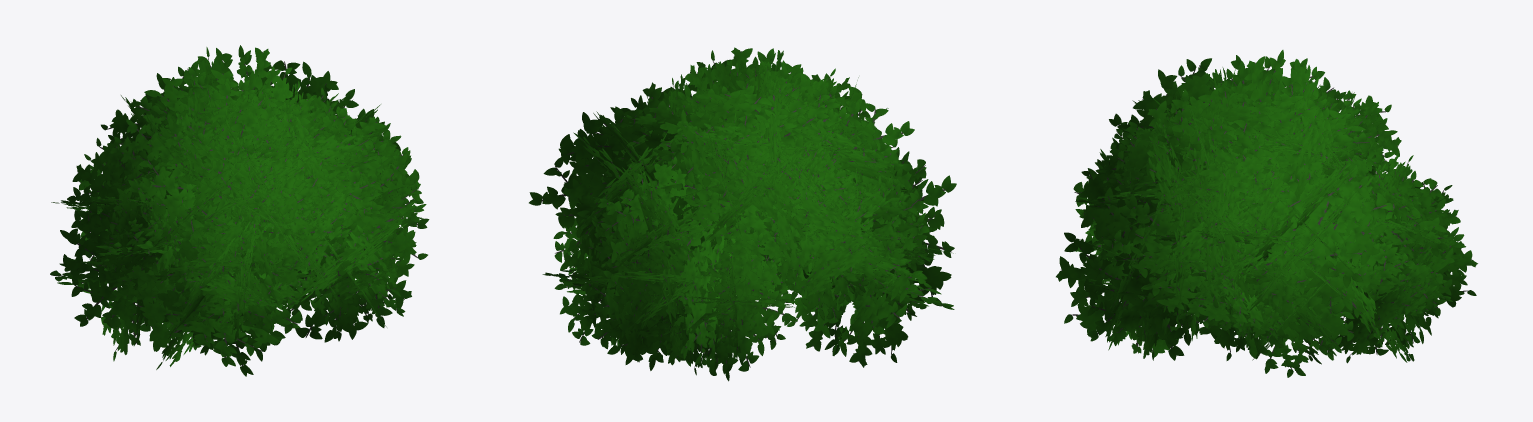
The model's file is Bush01.fbx.
3 renders of one model, left to right at view 1: azimuth 30°, elevation 25°; view 2: azimuth 150°, elevation 25°; view 3: azimuth 270°, elevation 25°, orthographic. The views are drawn at different scales.
Parts seen in each view (by area): view 1: Bush01_LOD0; view 2: Bush01_LOD0; view 3: Bush01_LOD0.
Boxes of the visible parts, x1=… form: Bush01_LOD0: x1=50, y1=45, x2=429, y2=376; Bush01_LOD0: x1=529, y1=47, x2=956, y2=381; Bush01_LOD0: x1=1056, y1=50, x2=1477, y2=377.
Size of what is drawn, in the model's own units: 245 by 185 by 247.
